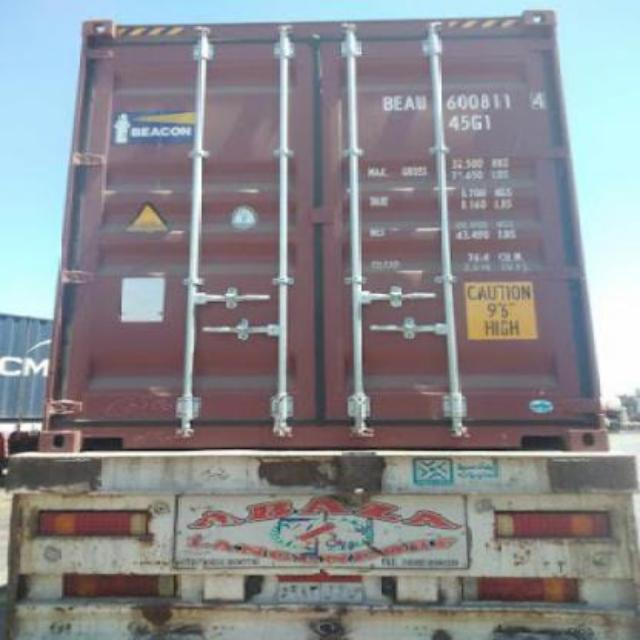0: (454, 92, 470, 112), (468, 90, 480, 112)
1: (502, 91, 520, 112), (492, 92, 502, 112)
4: (530, 92, 546, 110)
6: (444, 91, 458, 112)
8: (476, 90, 492, 110)
A: (404, 88, 416, 115)
B: (382, 94, 394, 114)
E: (392, 88, 404, 115)
U: (414, 93, 432, 113)
